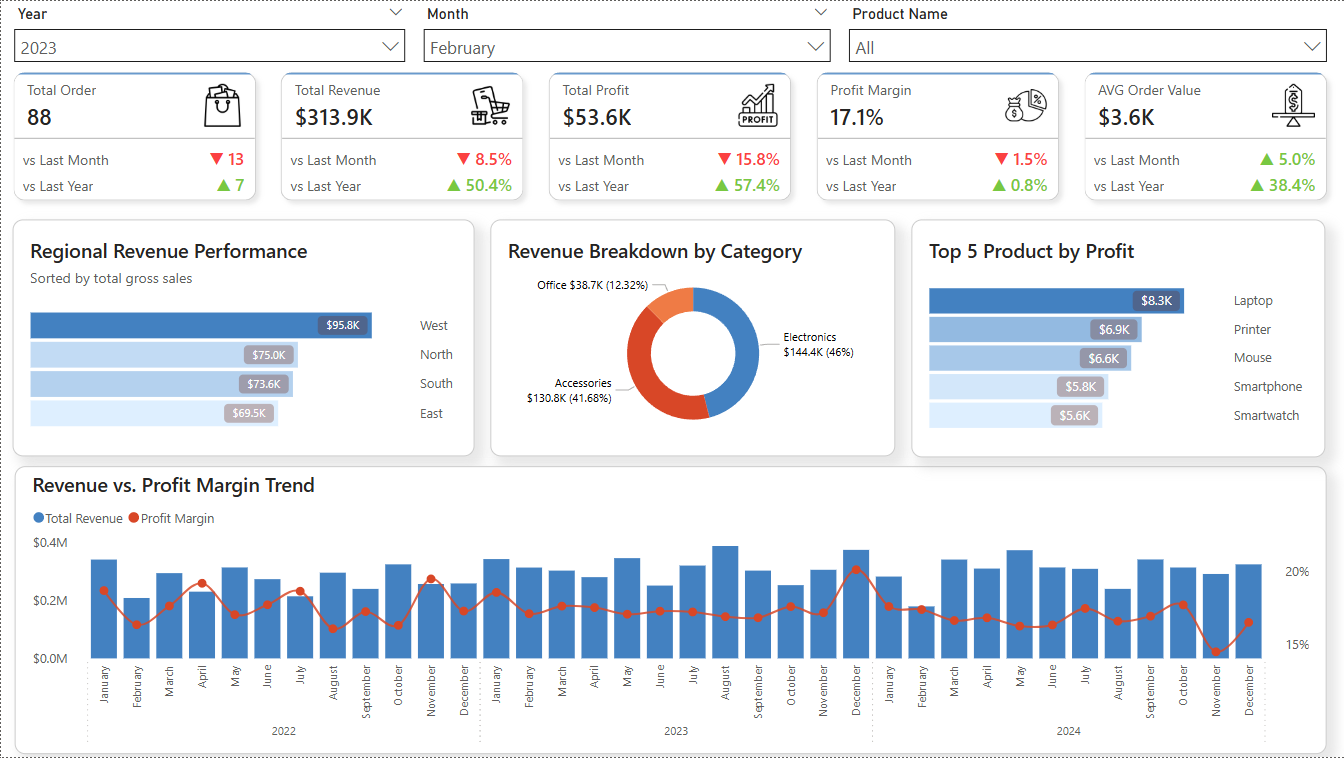

The page's visual inventory and layout, read from the dashboard file:
{"tool":"powerbi","page":{"name":"Page 1","canvas":[1280,720],"ordinal":0},"visuals":[{"type":"cardVisual","fields":{"Data":["_Measures.Total Order","_Measures.Total Revenue","_Measures.Total Profit","_Measures.Profit Margin","_Measures.AVG Order Value"]},"box":[0,56,1275,146],"z":0},{"type":"clusteredBarChart","title":"Regional Revenue Performance","fields":{"Category":["ecommerce_sales_data.Region"],"Y":["_Measures.Total Sales"]},"box":[10.8,208,440,226.2],"z":1000},{"type":"donutChart","title":"Revenue Breakdown by Category","fields":{"Category":["ecommerce_sales_data.Category"],"Y":["_Measures.Total Revenue"]},"box":[465.6,207.8,386.7,226.7],"z":2000},{"type":"slicer","fields":{"Values":["ecommerce_sales_data.Product Name"]},"box":[798.9,0,472.6,61.1],"z":4000},{"type":"slicer","fields":{"Values":["Calendar.Month Name"]},"box":[394,0,405,61],"z":5000},{"type":"slicer","title":"Year","fields":{"Values":["Calendar.Year"]},"box":[4.2,0,390,61.1],"z":6000},{"type":"lineClusteredColumnComboChart","title":"Revenue vs. Profit Margin Trend","fields":{"Y":["_Measures.Total Sales"],"Y2":["_Measures.Profit Margin"],"Category":["Calendar.Date.Variation.Date Hierarchy.Year","Calendar.Date.Variation.Date Hierarchy.Month"]},"box":[13,443,1250,274],"z":7000},{"type":"clusteredBarChart","title":"Top 5 Product by Profit","fields":{"Y":["_Measures.Total Profit"],"Category":["ecommerce_sales_data.Product Name"]},"box":[867,207.8,395,227],"z":7001}]}

Visuals, with their boxes in screenshot pixels (x1, y1, x2, y2), scaled from the page's 1280x720 canvas onto the 1344x758 screenshot:
cardVisual - _Measures.Total Order x _Measures.Total Revenue: select_region(0, 59, 1339, 213)
"Regional Revenue Performance" clusteredBarChart: select_region(11, 219, 473, 457)
"Revenue Breakdown by Category" donutChart: select_region(489, 219, 895, 457)
slicer - ecommerce_sales_data.Product Name: select_region(839, 0, 1335, 64)
slicer - Calendar.Month Name: select_region(414, 0, 839, 64)
"Year" slicer: select_region(4, 0, 414, 64)
"Revenue vs. Profit Margin Trend" lineClusteredColumnComboChart: select_region(14, 466, 1326, 755)
"Top 5 Product by Profit" clusteredBarChart: select_region(910, 219, 1325, 458)
